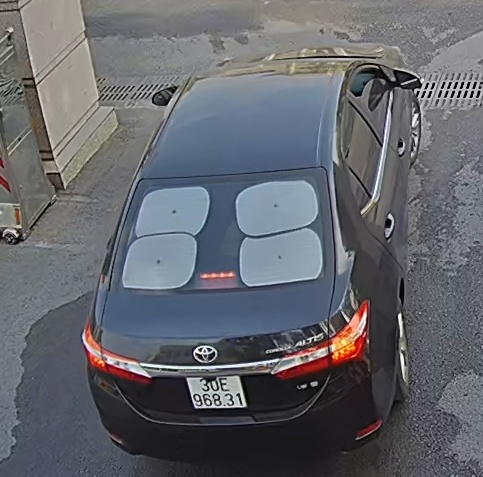vehicle plate: (181, 372, 250, 416)
